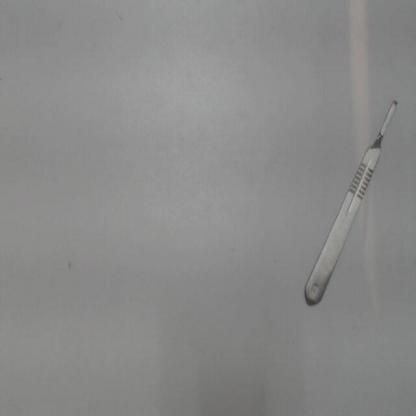No.4 BP Handle: (295, 96, 404, 318)
